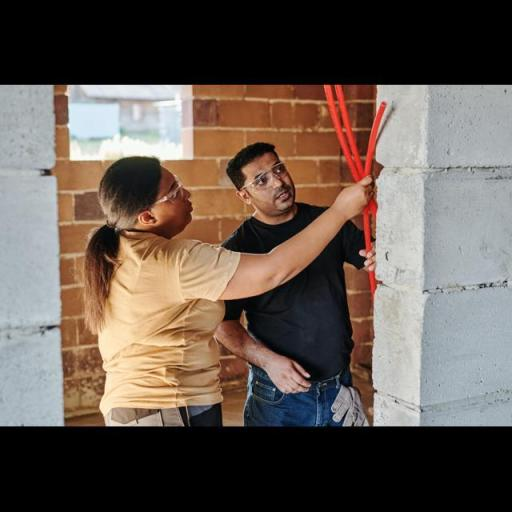Person: (72, 150, 402, 428), (204, 136, 377, 432)
gloves: (324, 388, 370, 424)
goggles: (233, 155, 299, 199), (136, 172, 189, 214)
none: (88, 143, 165, 235), (328, 169, 392, 218), (258, 350, 322, 398)
